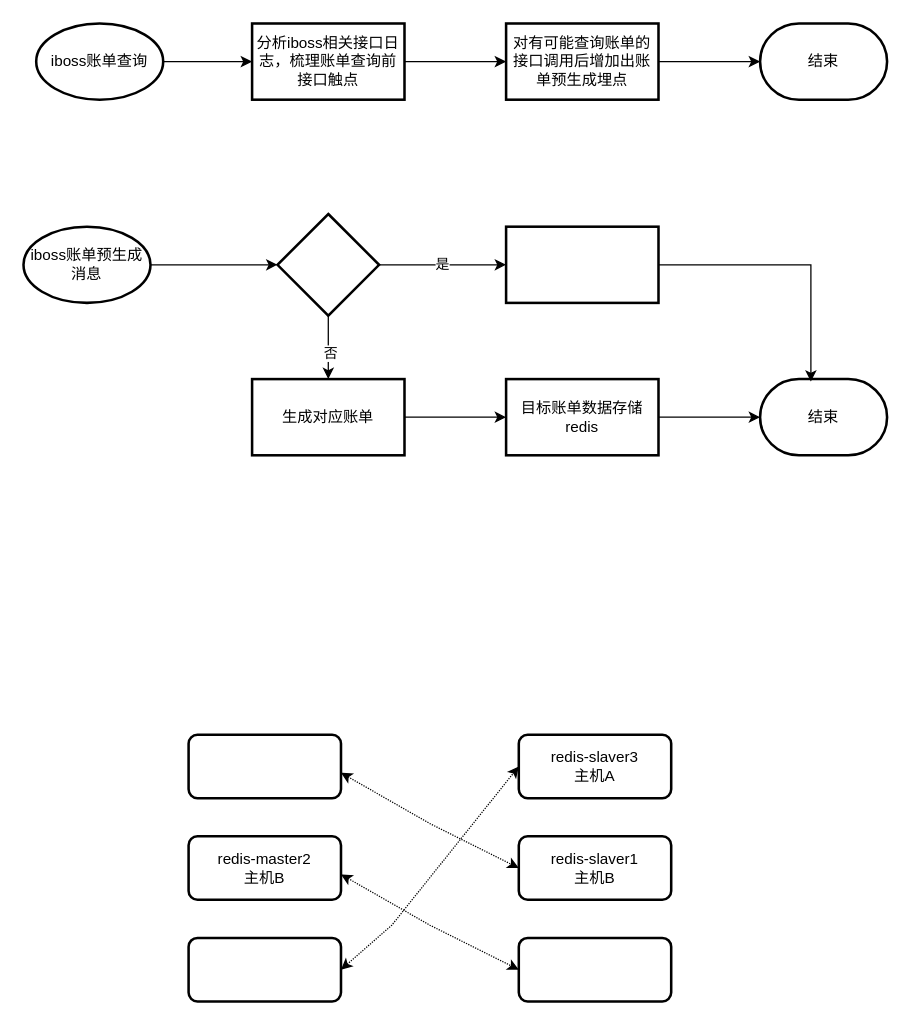
This 909x1024 diagram has some shape labels left out. The shapes that lost their labels are listed below. From the top down, each one's centre as x and y in pixels, then its label:
At (328,264): "判断redis是否存在账单".
At (581,264): "不做处理".
At (264,766): "redis-master1 主机A".
At (264,969): "redis-master3 主机C".
At (594,969): "redis-slaver2 主机C".
